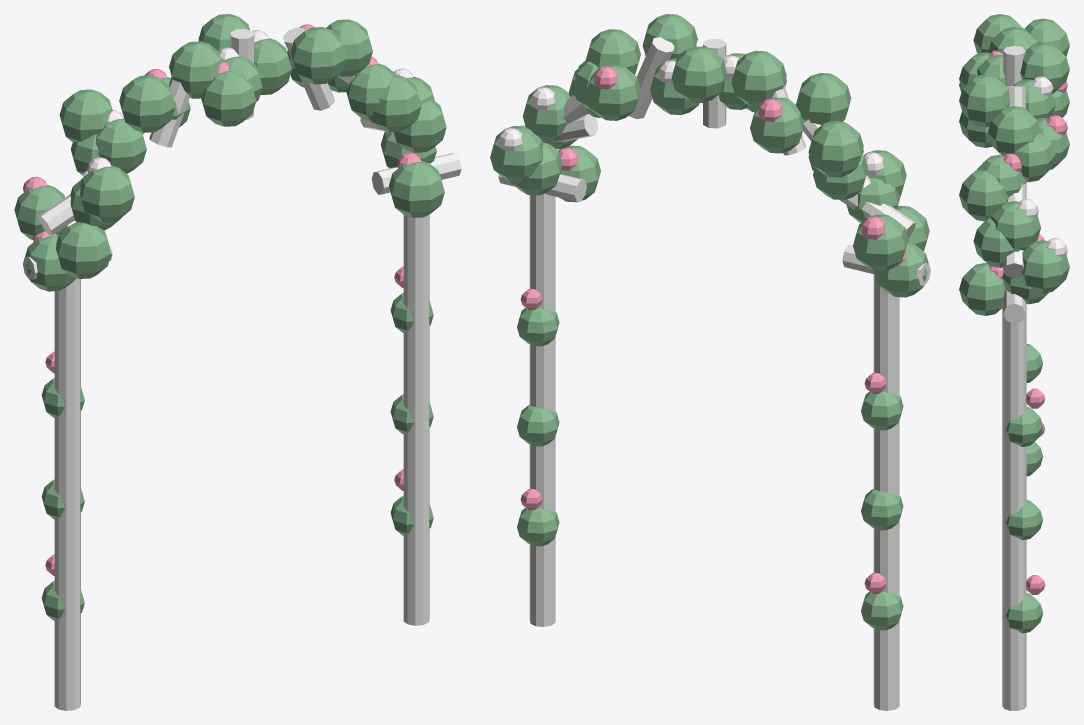
The model's file is th_rosenbogen.glb.
3 views of the same model, side by side, from view 1: azimuth 30°, elevation 25°; view 2: azimuth 150°, elevation 25°; view 3: azimuth 270°, elevation 25° (orthographic). The views are drawn at different scales.
Parts seen in each view (by area): view 1: rosenbogen; view 2: rosenbogen; view 3: rosenbogen.
Boxes of the visible parts, x1,y1,x2,y2 form: rosenbogen: (14,14,461,710); rosenbogen: (490,14,930,710); rosenbogen: (959,14,1069,710).
Size of the model in its own units: 2.21 by 3.13 by 0.54.
